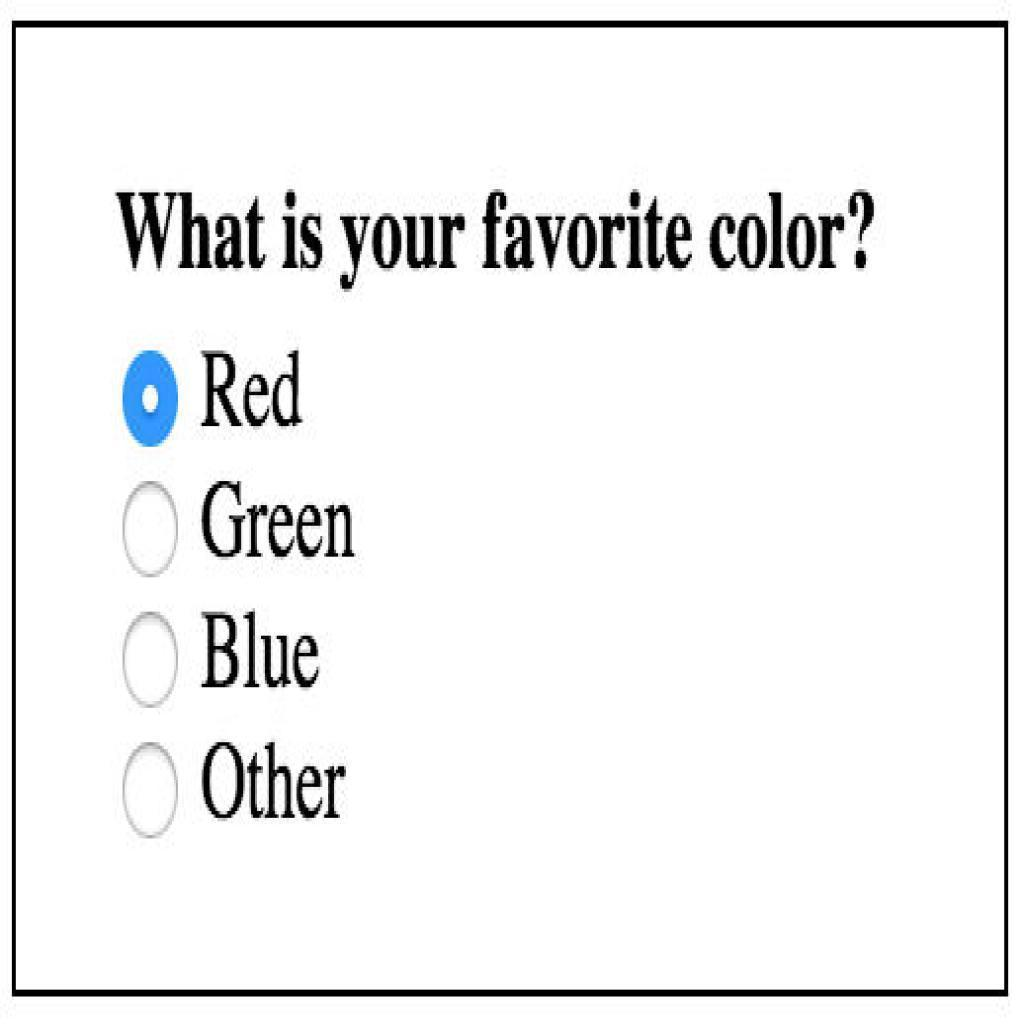radio: (119, 736, 178, 845), (120, 349, 184, 446), (119, 481, 183, 578), (121, 613, 184, 708)
